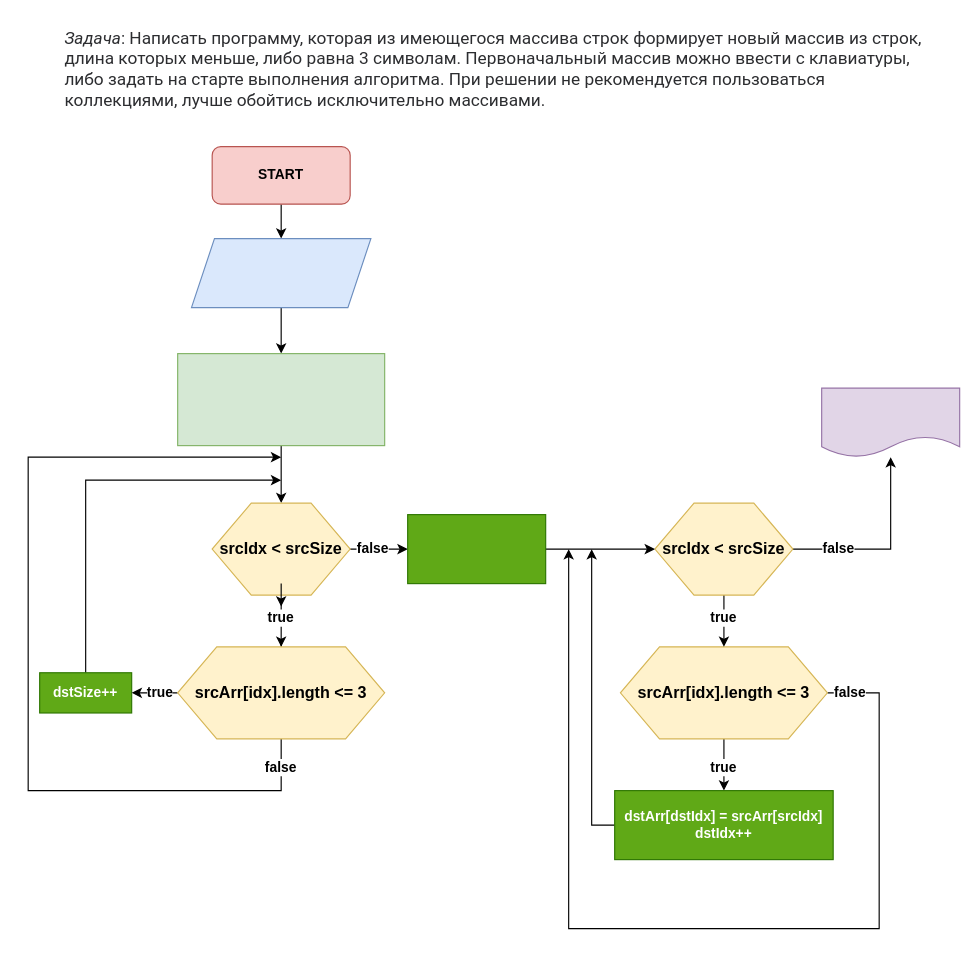
Some shapes in this 980 by 958 pixel diagram are drawn without their labels. The box of each missing label's shape, as (x1, y1, x2, y2) in pixels:
dstArr[] = [dstSize] srcIdx = 0: (407, 513, 546, 584)
print(dstArr): (821, 387, 960, 457)
srcArr[]: (190, 237, 371, 308)
srcSize = srcArr.length srcIdx = 0 dstIdx = 0 dstSize = 0: (177, 352, 385, 446)
